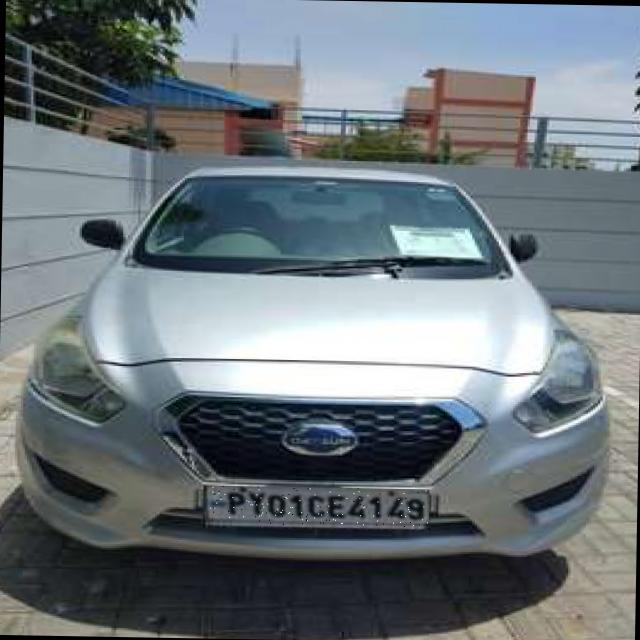Plate: (203, 487, 430, 529)
